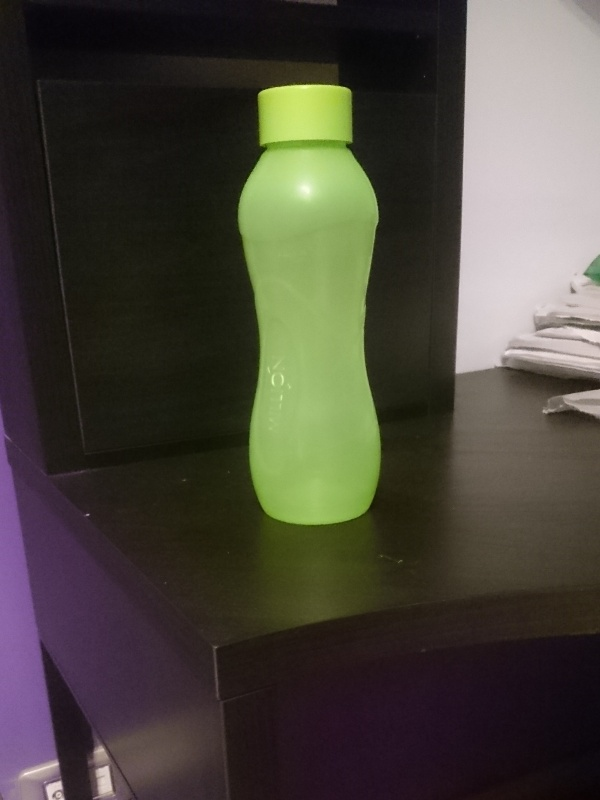my bottle: (236, 82, 384, 528)
